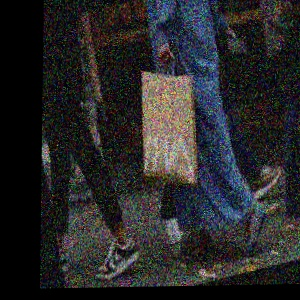zara: (158, 54, 252, 183)
